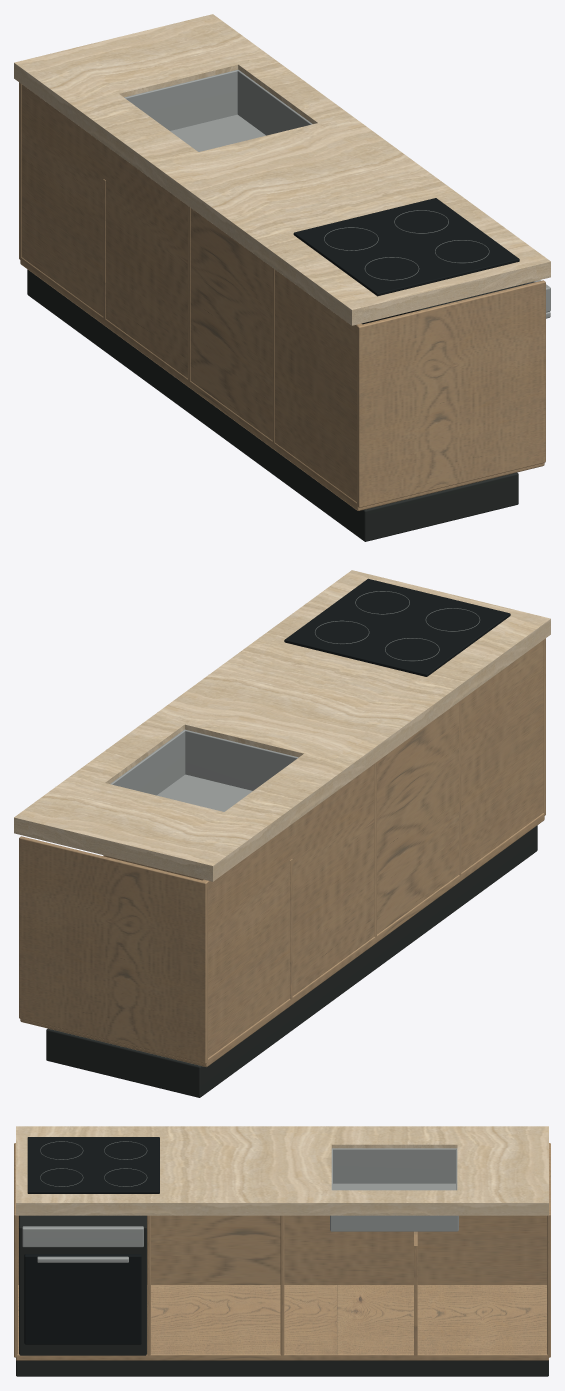
File: kitchen_drawer_shell.glb
The picture shows the model from 3 angles, top to bottom: view 1: azimuth 30°, elevation 25°; view 2: azimuth 150°, elevation 25°; view 3: azimuth 270°, elevation 25°; orthographic projection. The views are drawn at different scales.
Visible parts, largest first — view 1: Kitchen detail base back, Kitchen detail cutout worktop, Kitchen detail base divider, Kitchen detail base plinth, Kitchen detail induction hob, Kitchen detail sink end.001, Kitchen detail base bottom, Kitchen detail sink side.001, Kitchen detail sink bottom; view 2: Kitchen detail base back, Kitchen detail cutout worktop, Kitchen detail base divider.003, Kitchen detail base plinth, Kitchen detail induction hob, Kitchen detail sink end, Kitchen detail base bottom, Kitchen detail sink side.001, Kitchen detail sink bottom; view 3: Kitchen detail cutout worktop, Kitchen detail base bottom, Kitchen detail base back, Kitchen detail oven glass, Kitchen detail base plinth, Kitchen detail induction hob, Kitchen detail oven casing, Kitchen detail sink side, Kitchen detail oven controls, Kitchen detail sink side.001, Kitchen detail sink bottom, Kitchen detail base divider (+5 smaller).
Part boxes in pixels (x1,y1,x2,y2): Kitchen detail base back: (21,84,362,502); Kitchen detail cutout worktop: (14,14,550,325); Kitchen detail base divider: (357,280,545,507); Kitchen detail base plinth: (27,269,518,541); Kitchen detail induction hob: (293,198,519,296); Kitchen detail sink end.001: (124,70,237,130); Kitchen detail base bottom: (20,257,544,510); Kitchen detail sink side.001: (237,69,312,135); Kitchen detail sink bottom: (170,114,265,151); Kitchen detail base back: (202,640,543,1058); Kitchen detail cutout worktop: (14,570,550,881); Kitchen detail base divider.003: (19,836,207,1063); Kitchen detail base plinth: (46,825,537,1097); Kitchen detail induction hob: (284,578,510,676); Kitchen detail sink end: (185,729,298,790); Kitchen detail base bottom: (20,813,544,1066); Kitchen detail sink side.001: (110,729,185,795); Kitchen detail sink bottom: (157,774,252,811); Kitchen detail cutout worktop: (16,1126,548,1215); Kitchen detail base bottom: (16,1285,548,1360); Kitchen detail base back: (18,1215,546,1284); Kitchen detail oven glass: (24,1254,141,1344); Kitchen detail base plinth: (16,1360,548,1376); Kitchen detail induction hob: (27,1137,159,1193); Kitchen detail oven casing: (19,1215,146,1355); Kitchen detail sink side: (332,1148,456,1183); Kitchen detail oven controls: (22,1226,143,1247); Kitchen detail sink side.001: (330,1215,458,1231); Kitchen detail sink bottom: (333,1183,455,1190); Kitchen detail base divider: (14,1143,17,1357).
Bounding box in the file's own units: 0.909 × 0.976 × 2.52.
6 materials, 2 textured.
